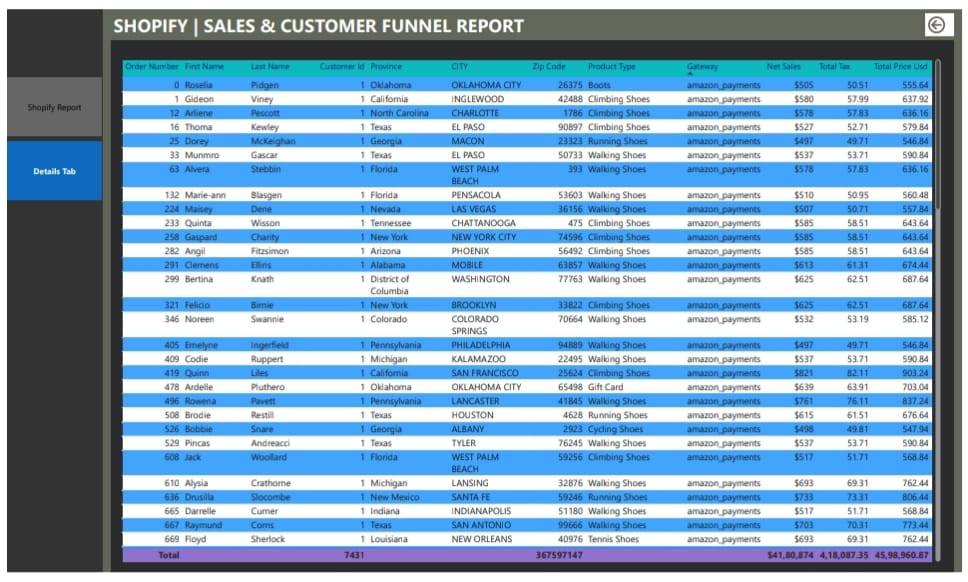

The page's visual inventory and layout, read from the dashboard file:
{"tool":"powerbi","page":{"name":"Details Tab","canvas":[1700,1000],"ordinal":1},"visuals":[{"type":"shape","box":[0,0,169.2,1000.3],"z":0},{"type":"textbox","box":[184.3,0,744,53.6],"z":1000},{"type":"shape","box":[184.3,53.6,1499.7,946.7],"z":2000},{"type":"tableEx","fields":{"Values":["shopify_sales.Order Number","shopify_sales.Billing Address First Name","shopify_sales.Billing Address Last Name","shopify_sales.Customer Id","shopify_sales.Billing Address Province","shopify_sales.CITY","shopify_sales.Billing Address Zip","shopify_sales.Product Type","shopify_sales.Gateway","shopify_sales.Net Sales","shopify_sales.Total Tax","shopify_sales.Total Price Usd"]},"box":[199.4,83.8,1466.2,903.2],"z":3000},{"type":"actionButton","box":[1633.7,6.7,50.3,40.2],"z":4000},{"type":"pageNavigator","box":[0,120.6,167.6,219.5],"z":5000}]}

Visuals, with their boxes on the page's 1700x1000 design canvas (x1, y1, x2, y2). These are canvas units, not pixel positions in the 968x582 screenshot, which may show the page scaled, cropped or inside an application window:
shape: detection(0, 0, 169, 1000)
textbox: detection(184, 0, 928, 54)
shape: detection(184, 54, 1684, 1000)
tableEx - shopify_sales.Order Number x shopify_sales.Billing Address First Name: detection(199, 84, 1666, 987)
actionButton: detection(1634, 7, 1684, 47)
pageNavigator: detection(0, 121, 168, 340)
